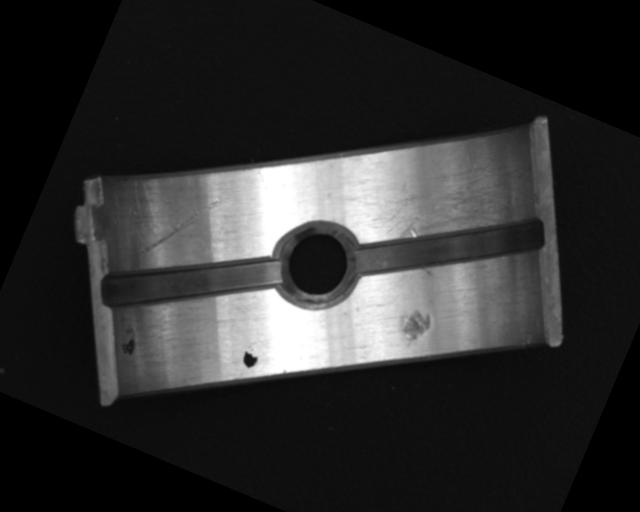blot: (116, 327, 140, 358), (239, 344, 261, 371)
bruise: (394, 305, 435, 353)
gap: (350, 161, 550, 335), (94, 201, 287, 365)
hole: (262, 209, 370, 322)
nick: (139, 176, 224, 277)
scratch: (367, 136, 522, 288)
